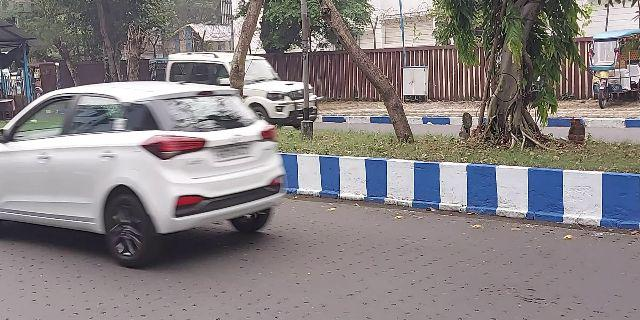Car: (1, 78, 288, 257), (166, 50, 325, 121)
Van: (592, 28, 635, 111)
